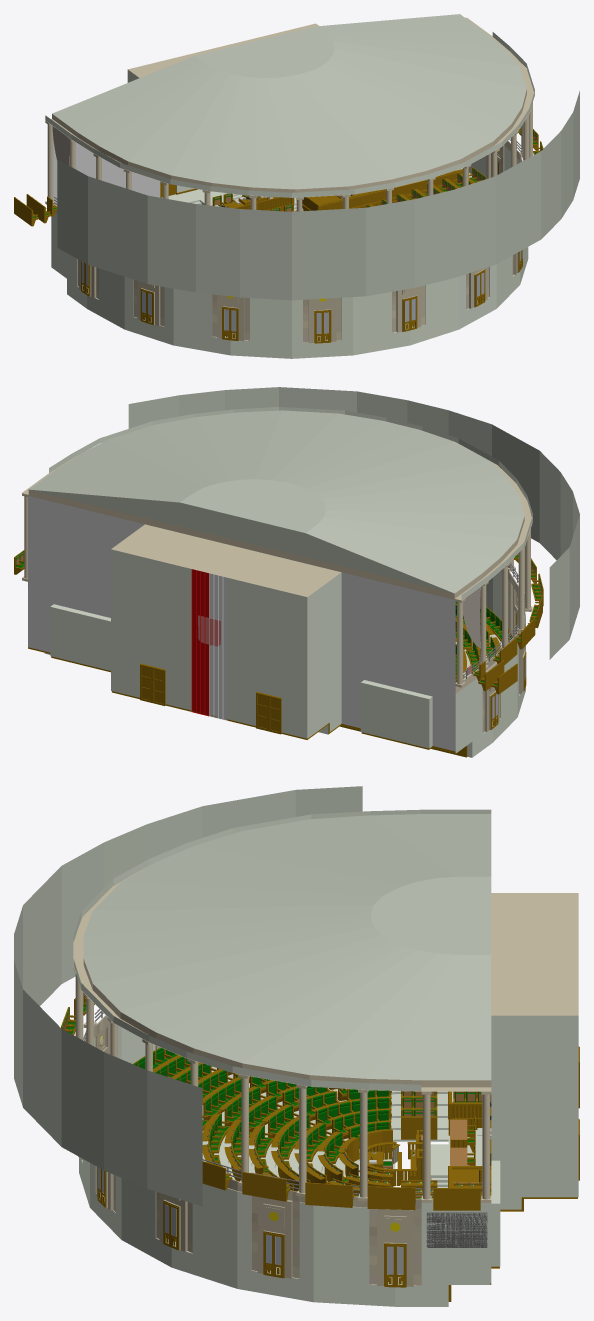
Rendered from parliament.glb.
The picture shows the model from 3 angles, top to bottom: view 1: azimuth 30°, elevation 25°; view 2: azimuth 150°, elevation 25°; view 3: azimuth 270°, elevation 25°; orthographic projection. The views are drawn at different scales.
Parts seen in each view (by area): view 1: skp; view 2: skp; view 3: skp.
Part boxes in pixels (left/top/right/bottom): skp: left=14, top=14, right=579, bottom=358; skp: left=14, top=387, right=579, bottom=757; skp: left=14, top=786, right=579, bottom=1306.
Size of the model in its own units: 31.69 by 12.4 by 24.77.
